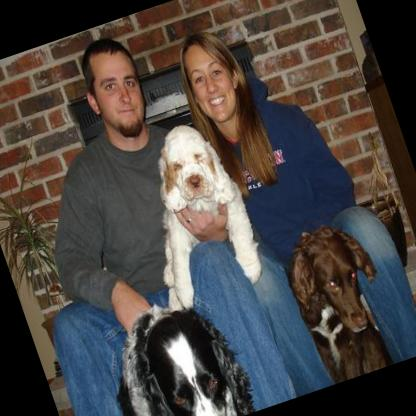clumber: (112, 111, 270, 314), (273, 210, 407, 386), (88, 282, 262, 416)
